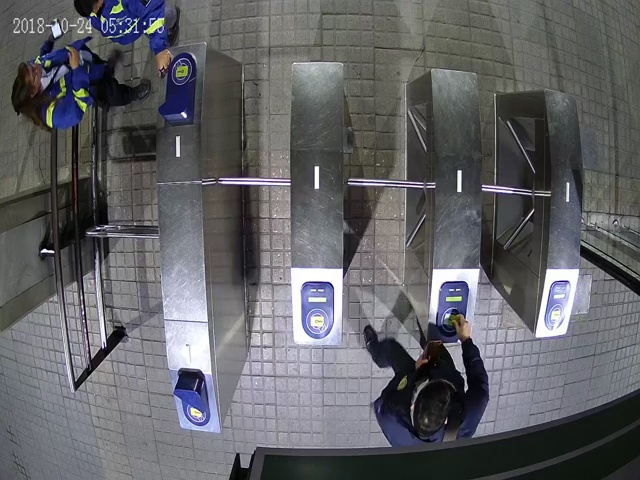Chaleco_azul: (10, 28, 150, 132), (75, 1, 179, 77)
